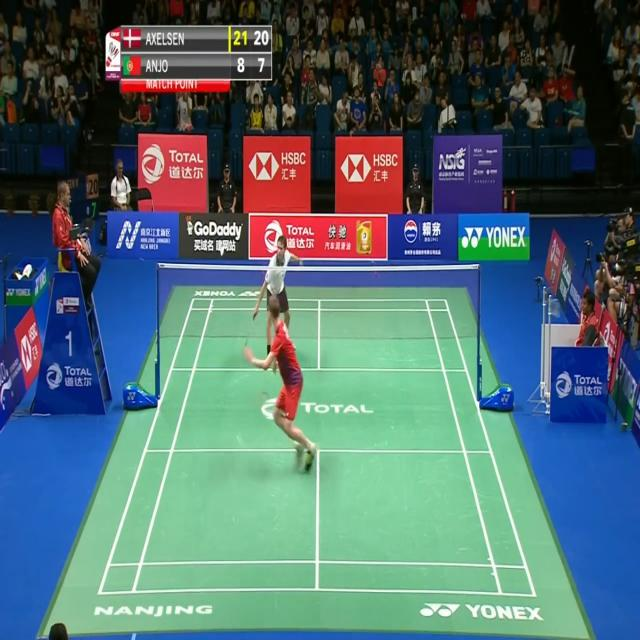Player1: (245, 301, 316, 472)
Player2: (252, 228, 302, 356)
